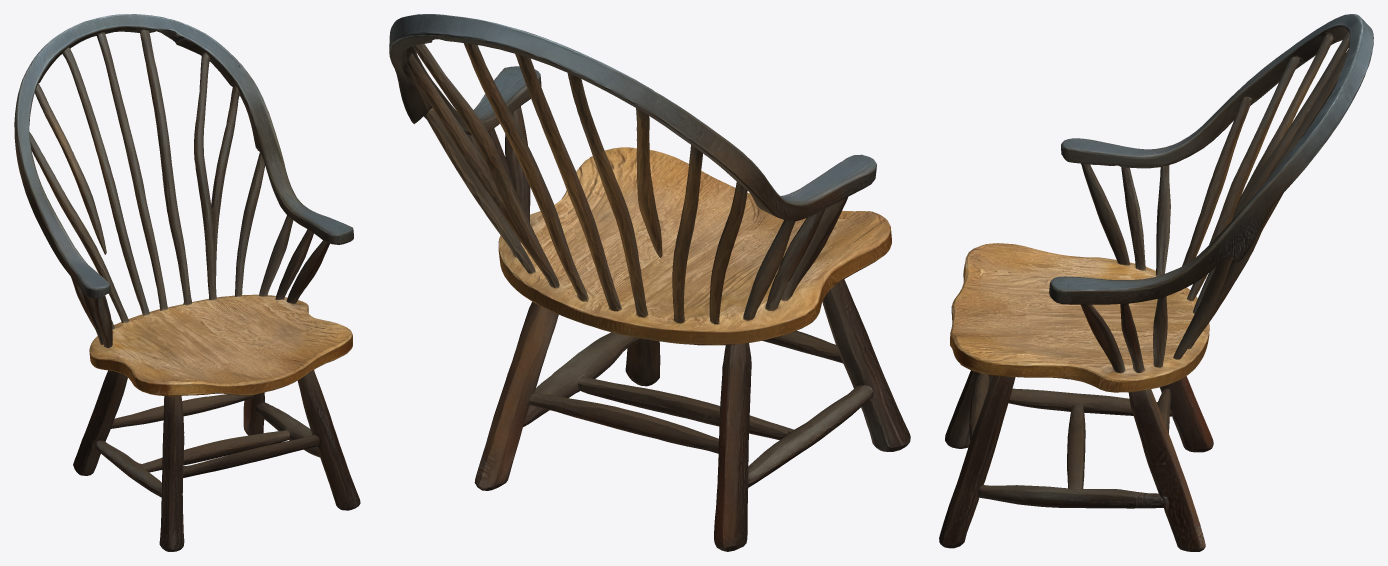
Rendered from 温莎椅_单体.glb.
The picture shows the model from 3 angles, left to right: view 1: azimuth 30°, elevation 25°; view 2: azimuth 150°, elevation 25°; view 3: azimuth 270°, elevation 25°; orthographic projection. The views are drawn at different scales.
Parts seen in each view (by area): view 1: model; view 2: model; view 3: model.
Part boxes in pixels (box(x1,y1,x2,y2)): model: box(14, 14, 360, 551); model: box(389, 14, 910, 551); model: box(939, 14, 1373, 551).
Bounding box in the file's own units: 1.34 × 1.9 × 1.6.
Materials: 1 (1 with a texture image).
